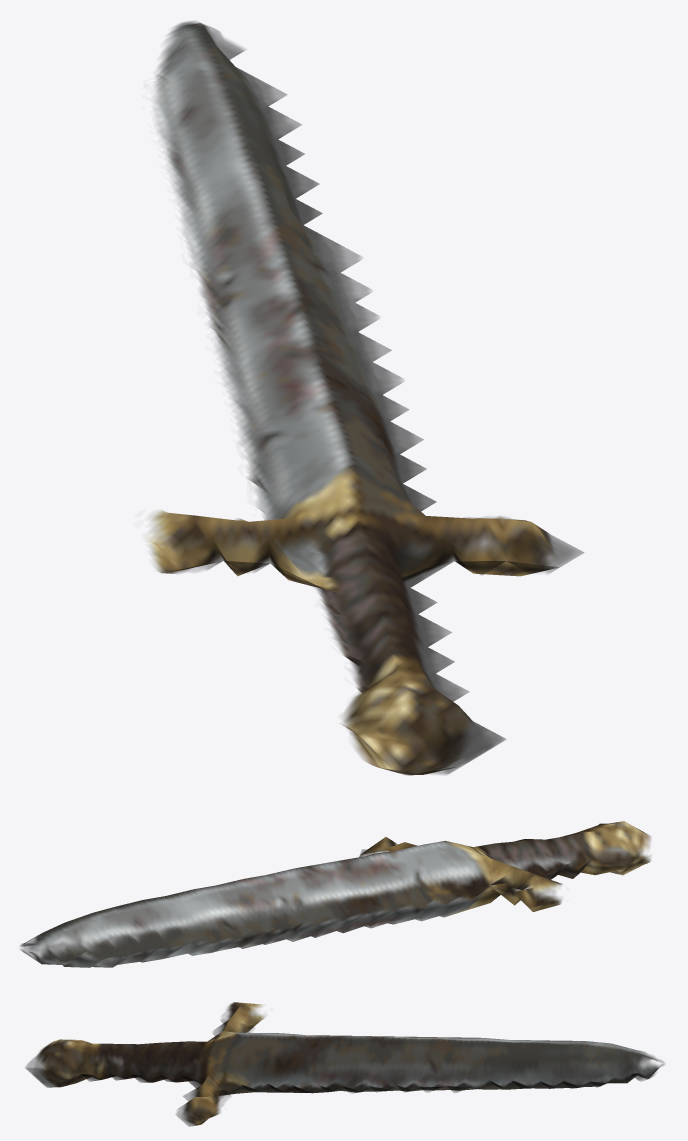
Rendered from drop_sword.glb.
3 renders of one model, top to bottom at view 1: azimuth 30°, elevation 25°; view 2: azimuth 150°, elevation 25°; view 3: azimuth 270°, elevation 25°, orthographic. The views are drawn at different scales.
Parts seen in each view (by area): view 1: drop_sword; view 2: drop_sword; view 3: drop_sword.
Boxes of the visible parts, x1,y1,x2,y2 form: drop_sword: [146, 21, 583, 775]; drop_sword: [20, 821, 650, 967]; drop_sword: [25, 1002, 664, 1126].
Bounding box in the file's own units: 0.3379 × 0.1435 × 0.7298.
1 material, 1 textured.
